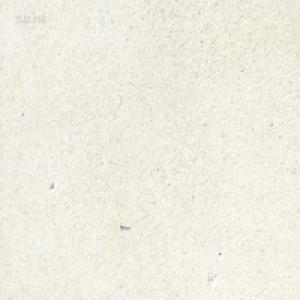Nail: (119, 221, 130, 229)
